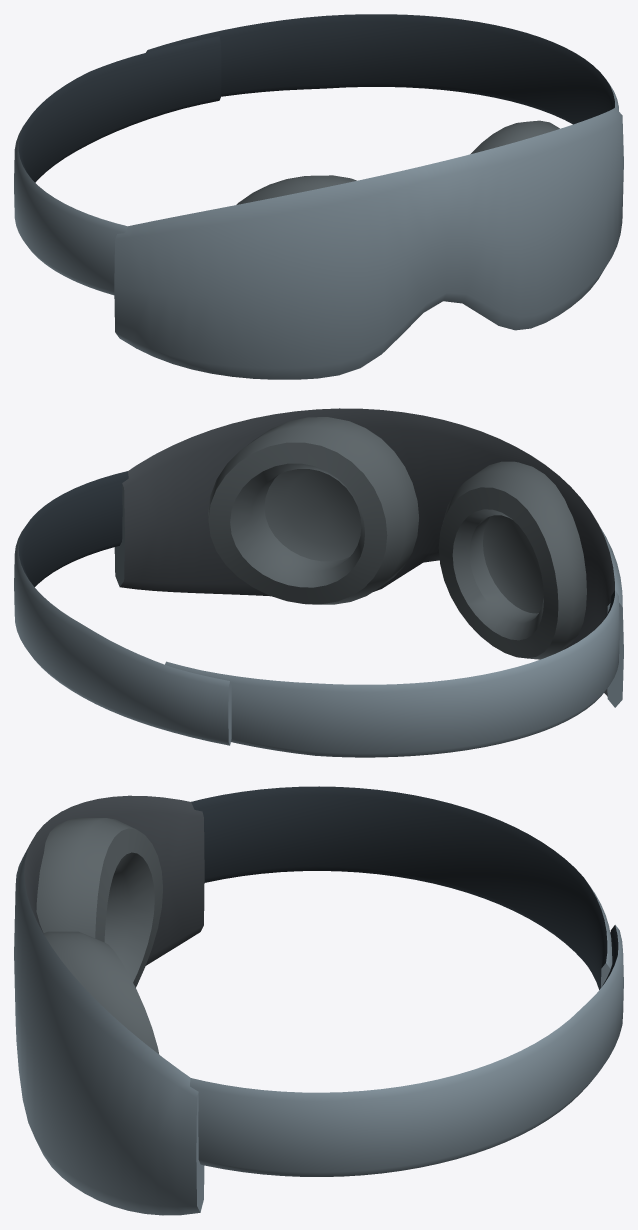
3 renders of one model, top to bottom at view 1: azimuth 30°, elevation 25°; view 2: azimuth 150°, elevation 25°; view 3: azimuth 270°, elevation 25°, orthographic. The views are drawn at different scales.
Visible parts, largest first — view 1: Padded_closed_two_eye_front_with_nose_relief, Right_continuous_wrap_strap_with_overlap_end, Left_continuous_wrap_strap_with_overlap_end, Left_closed_recessed_contact_cup, Right_closed_recessed_contact_cup; view 2: Padded_closed_two_eye_front_with_nose_relief, Right_closed_recessed_contact_cup, Left_continuous_wrap_strap_with_overlap_end, Left_closed_recessed_contact_cup, Right_continuous_wrap_strap_with_overlap_end; view 3: Padded_closed_two_eye_front_with_nose_relief, Right_continuous_wrap_strap_with_overlap_end, Left_continuous_wrap_strap_with_overlap_end, Left_closed_recessed_contact_cup, Right_closed_recessed_contact_cup.
Boxes of the visible parts, <box> form: Padded_closed_two_eye_front_with_nose_relief: <box>114,108,623,379</box>; Right_continuous_wrap_strap_with_overlap_end: <box>146,14,618,124</box>; Left_continuous_wrap_strap_with_overlap_end: <box>14,36,221,295</box>; Left_closed_recessed_contact_cup: <box>236,175,356,204</box>; Right_closed_recessed_contact_cup: <box>470,120,559,154</box>; Padded_closed_two_eye_front_with_nose_relief: <box>114,408,623,707</box>; Right_closed_recessed_contact_cup: <box>208,417,418,604</box>; Left_continuous_wrap_strap_with_overlap_end: <box>165,590,619,757</box>; Left_closed_recessed_contact_cup: <box>438,461,586,659</box>; Right_continuous_wrap_strap_with_overlap_end: <box>14,471,231,745</box>; Padded_closed_two_eye_front_with_nose_relief: <box>14,795,204,1215</box>; Right_continuous_wrap_strap_with_overlap_end: <box>190,925,623,1176</box>; Left_continuous_wrap_strap_with_overlap_end: <box>191,786,612,989</box>; Left_closed_recessed_contact_cup: <box>36,818,162,987</box>; Right_closed_recessed_contact_cup: <box>43,931,159,1054</box>.
Bounding box in the file's own units: 0.2132 × 0.0736 × 0.1768.
